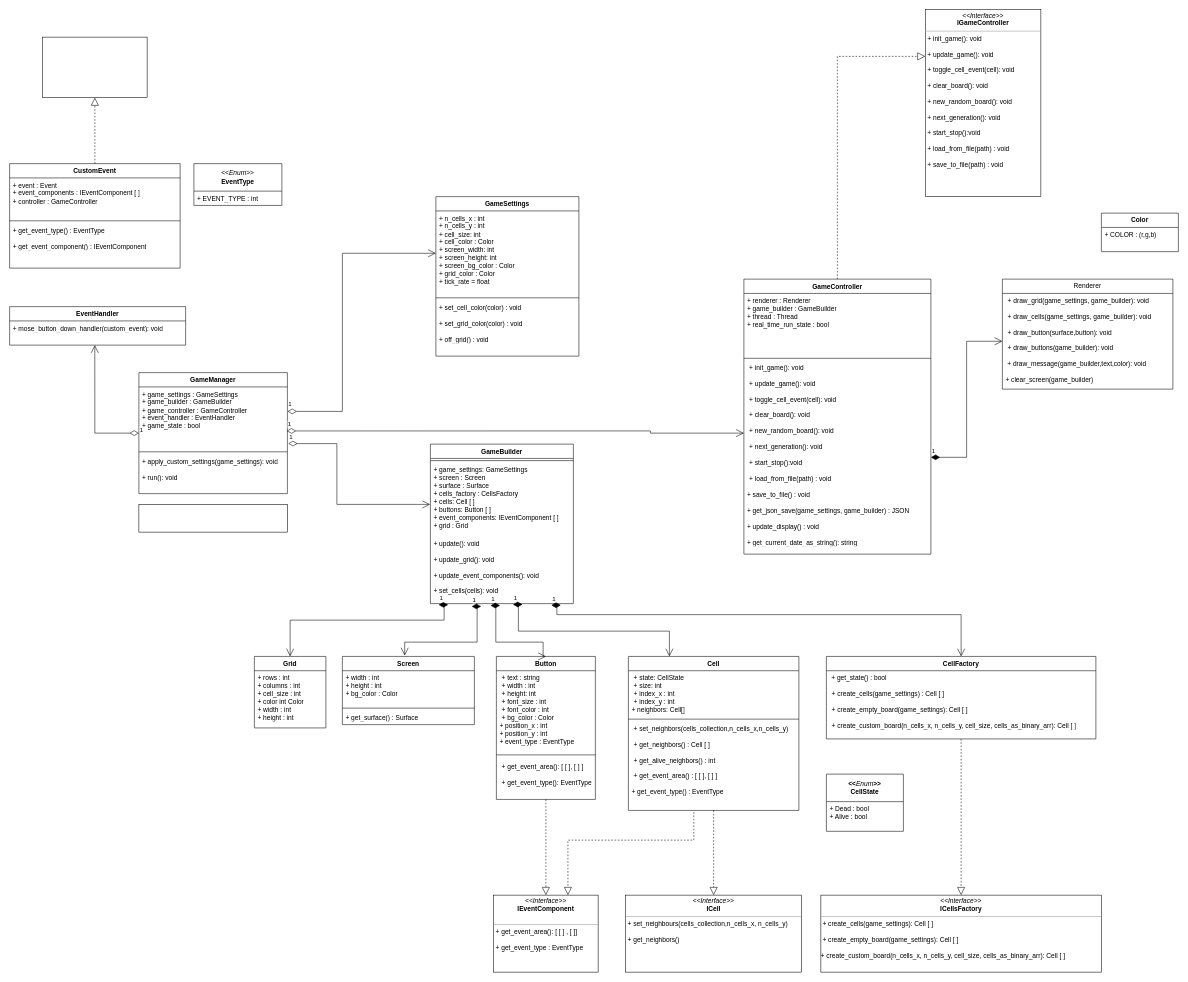
Some shapes in this 1188 by 982 pixel diagram are drawn without their labels. Here are the shapes that lost their labels. From the top down, the centre of each, then its label:
At pixel 94 67: "<<Interface>> ICustomEvent + get_event_type() + get_event_component()".
At pixel 212 518: "Start here".
